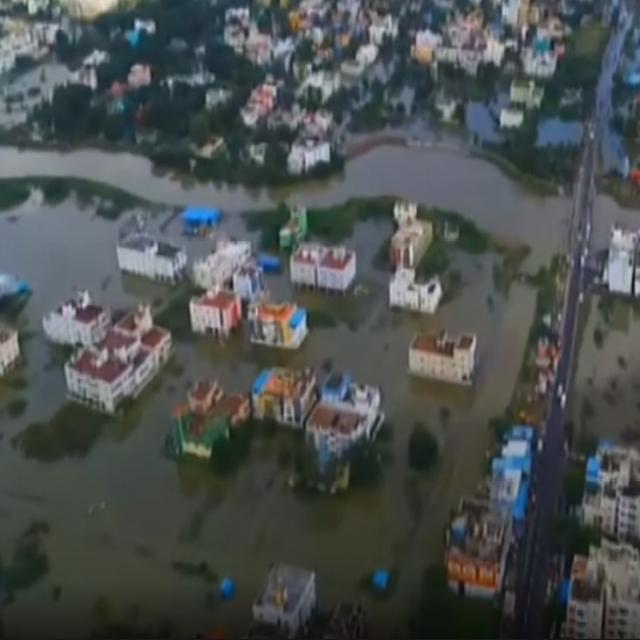flood: (0, 200, 538, 640), (0, 145, 571, 270), (160, 212, 255, 268), (271, 276, 351, 310), (594, 193, 640, 248)
house: (66, 308, 175, 414), (445, 493, 520, 600), (563, 545, 640, 640), (310, 370, 382, 458), (246, 560, 323, 640), (584, 431, 636, 548), (179, 376, 249, 459), (251, 360, 315, 432), (410, 328, 478, 392), (290, 234, 357, 298), (116, 232, 188, 288), (198, 236, 264, 292), (2, 270, 31, 388), (252, 296, 314, 351), (387, 202, 438, 266), (194, 284, 250, 340), (388, 268, 442, 316), (603, 226, 640, 296), (290, 136, 332, 174)
